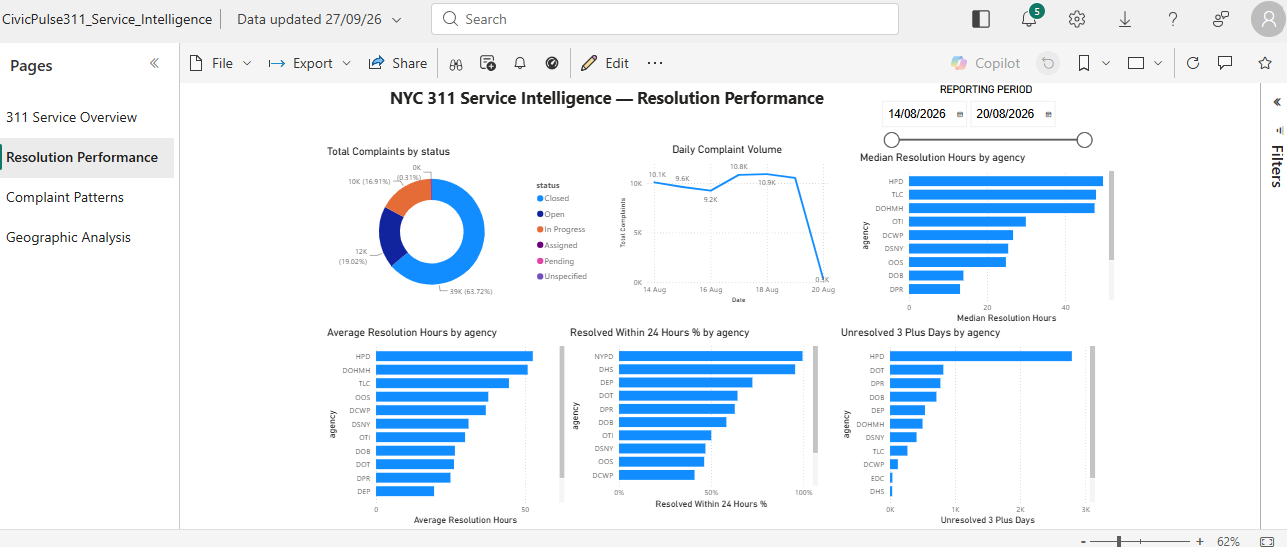

This screenshot's page, from the dashboard's own definition file:
{"tool":"powerbi","page":{"name":"Resolution Performance","canvas":[1280,720],"ordinal":1},"visuals":[{"type":"donutChart","fields":{"Category":["civicpulse311_powerbi.status"],"Y":["civicpulse311_powerbi.Total Complaints"]},"box":[0,100,439,261],"z":0},{"type":"clusteredBarChart","fields":{"Category":["civicpulse311_powerbi.agency"],"Y":["civicpulse311_powerbi.Average Resolution Hours"]},"box":[0,392.7,392.7,326.8],"z":1000},{"type":"clusteredBarChart","fields":{"Category":["civicpulse311_powerbi.agency"],"Y":["civicpulse311_powerbi.Unresolved 3 Plus Days"]},"box":[829.3,392.7,419.5,326.8],"z":2000},{"type":"clusteredBarChart","fields":{"Category":["civicpulse311_powerbi.agency"],"Y":["civicpulse311_powerbi.Median Resolution Hours"]},"box":[861,109.8,419.5,282.9],"z":3000},{"type":"clusteredBarChart","fields":{"Category":["civicpulse311_powerbi.agency"],"Y":["civicpulse311_powerbi.Resolved Within 24 Hours %"]},"box":[392.7,392.7,409.8,300],"z":4000},{"type":"lineChart","title":"Daily Complaint Volume","fields":{"Y":["civicpulse311_powerbi.Total Complaints"],"Category":["civicpulse311_powerbi.Created Date Only.Variation.Date Hierarchy.Year","civicpulse311_powerbi.Created Date Only.Variation.Date Hierarchy.Quarter","civicpulse311_powerbi.Created Date Only.Variation.Date Hierarchy.Month","civicpulse311_powerbi.Created Date Only.Variation.Date Hierarchy.Day"]},"box":[470.7,97.6,358.5,263.4],"z":5000},{"type":"textbox","box":[65.9,0,780.5,61],"z":6000},{"type":"slicer","title":"REPORTING PERIOD","fields":{"Values":["civicpulse311_powerbi.created_date"]},"box":[887.8,0,361,109.8],"z":7000}]}

Visuals, with their boxes on the page's 1280x720 design canvas (x1, y1, x2, y2). These are canvas units, not pixel positions in the 1287x547 screenshot, which may show the page scaled, cropped or inside an application window:
donutChart - civicpulse311_powerbi.status x civicpulse311_powerbi.Total Complaints: (x1=0, y1=100, x2=439, y2=361)
clusteredBarChart - civicpulse311_powerbi.agency x civicpulse311_powerbi.Average Resolution Hours: (x1=0, y1=393, x2=393, y2=720)
clusteredBarChart - civicpulse311_powerbi.agency x civicpulse311_powerbi.Unresolved 3 Plus Days: (x1=829, y1=393, x2=1249, y2=720)
clusteredBarChart - civicpulse311_powerbi.agency x civicpulse311_powerbi.Median Resolution Hours: (x1=861, y1=110, x2=1280, y2=393)
clusteredBarChart - civicpulse311_powerbi.agency x civicpulse311_powerbi.Resolved Within 24 Hours %: (x1=393, y1=393, x2=802, y2=693)
"Daily Complaint Volume" lineChart: (x1=471, y1=98, x2=829, y2=361)
textbox: (x1=66, y1=0, x2=846, y2=61)
"REPORTING PERIOD" slicer: (x1=888, y1=0, x2=1249, y2=110)
